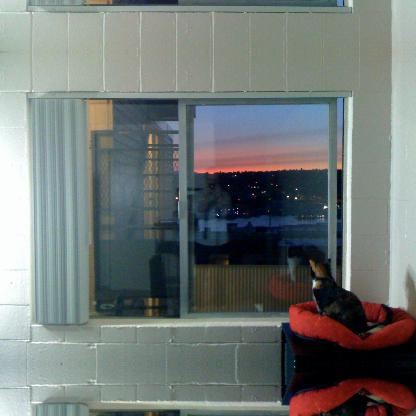Cat: (310, 260, 392, 334), (310, 393, 393, 415)
